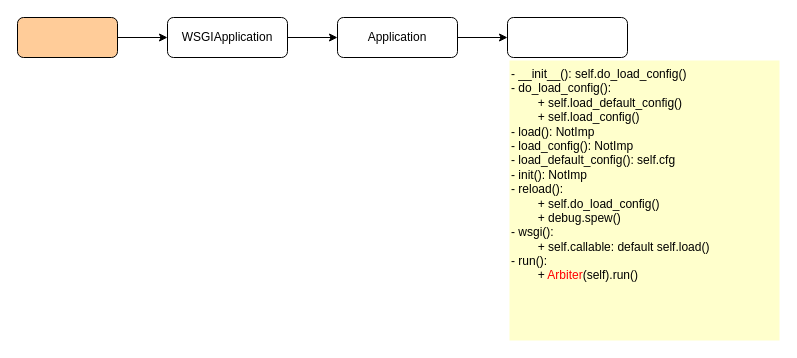
Some shapes in this 797 by 358 pixel diagram are drawn without their labels. The centre of each missing label's shape, as x and y in pixels:
"BaseApplication" goes at pixel 567 37.
"sys.exit(run())" goes at pixel 67 37.
